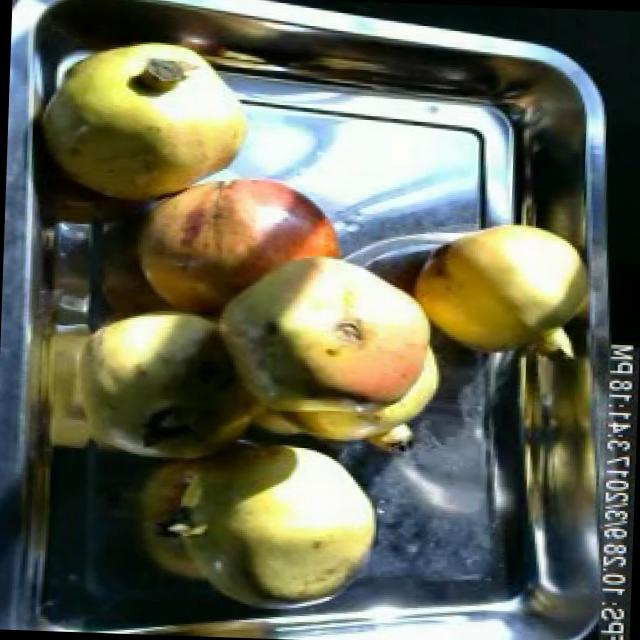fruit: (21, 25, 265, 224), (116, 155, 343, 331), (254, 244, 448, 418), (398, 208, 599, 370), (225, 439, 395, 623)
